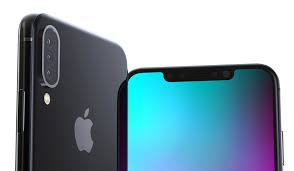iphone10: (17, 12, 133, 171)
